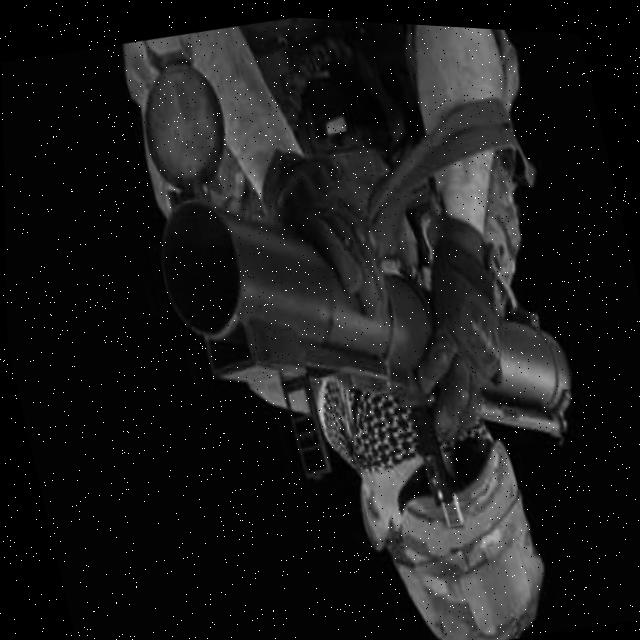rocket: (147, 118, 580, 504)
